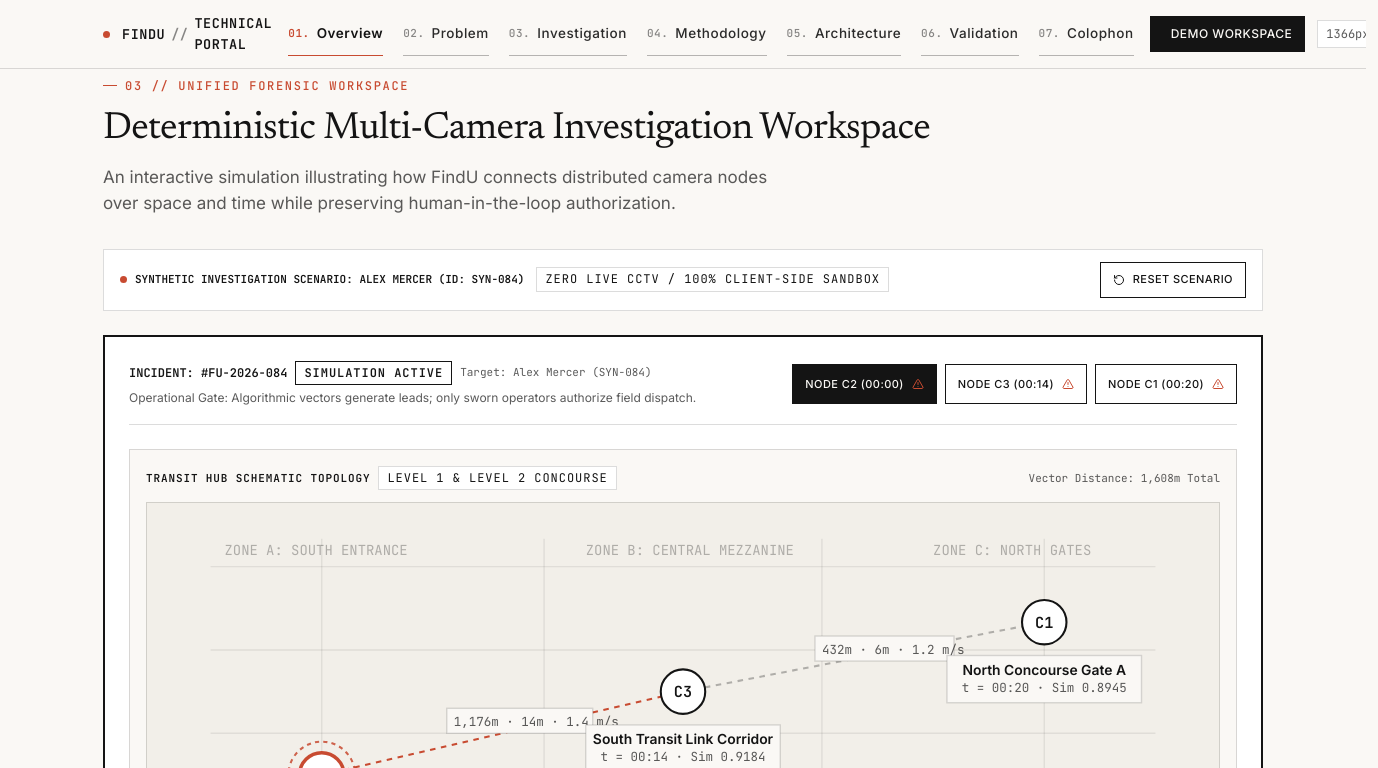
Test: Phase P5: Unified Interactive Investigation Demo Verification › synchronizes workspace when switching to Node C3 via toolbar buttons
(page scrolled)
Click the button "Node C3 (00:14)" at {"x": 1016, "y": 384}, box [945,364,1087,404]
(page scrolled)
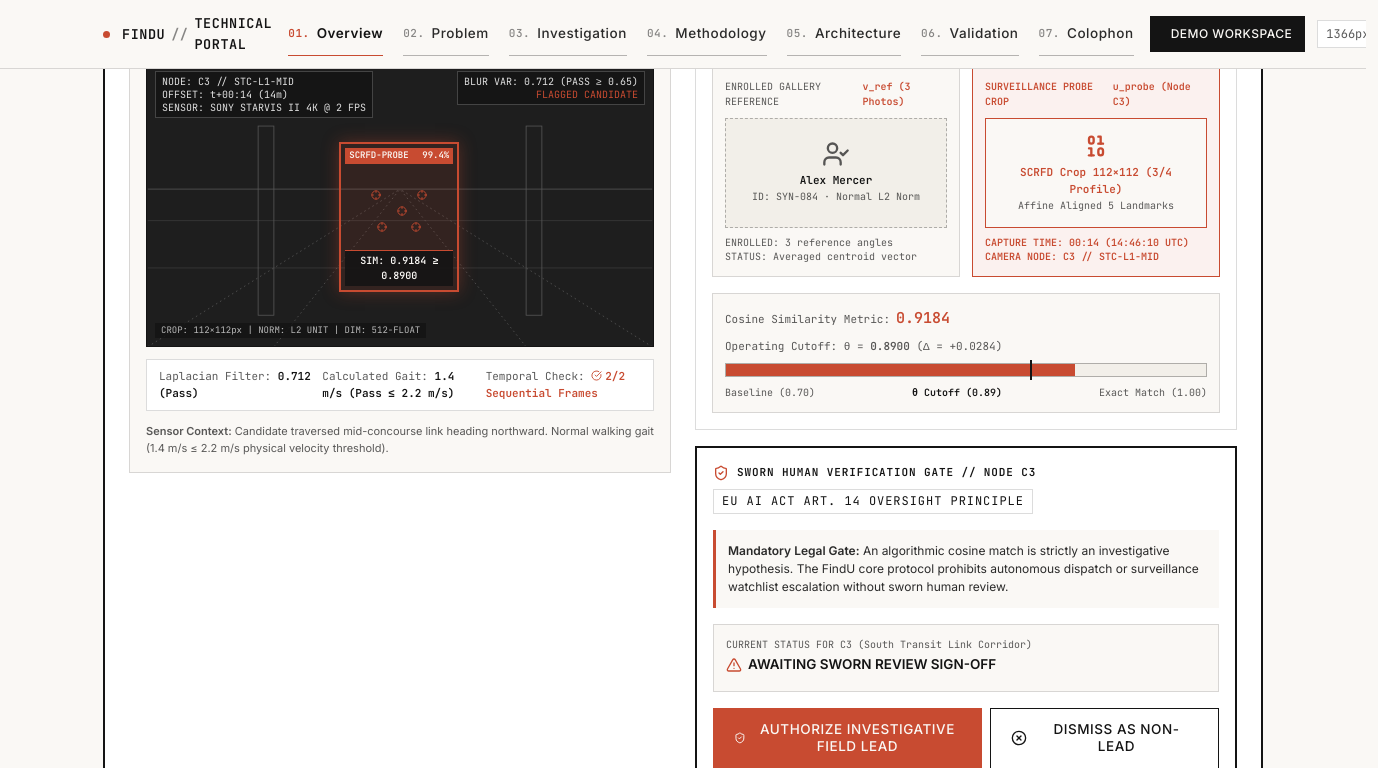
Check: the text "CAM-03-SOUTH-LINK-CORRIDOR" is shown, box [168,4,340,21]
Check: the text "0.9184" is shown, box [896,308,950,328]
Check: the text "1.4 m/s (Pass ≤ 2.2 m/s)" is shown, box [322,369,454,400]
